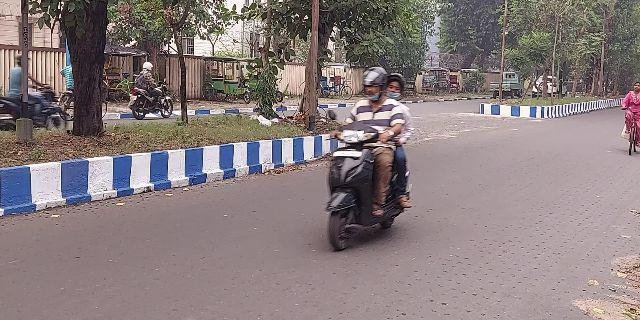Motorbike: (326, 66, 418, 247), (129, 56, 186, 125)
